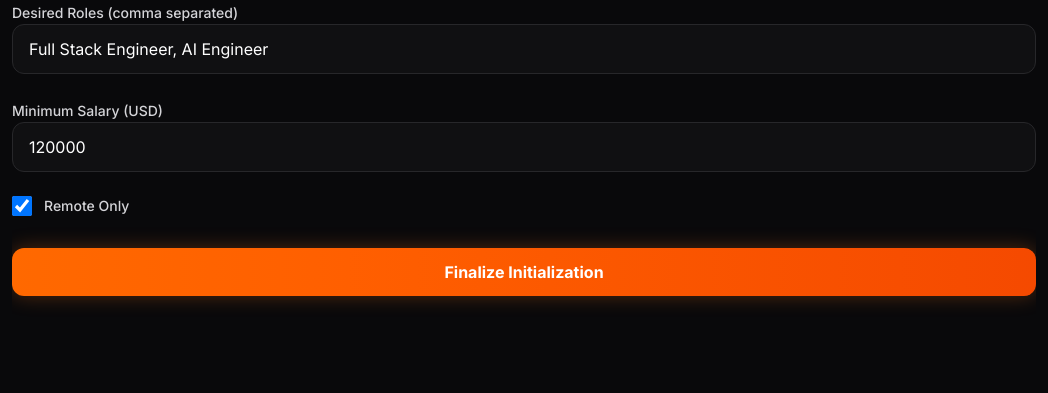
Test: PreferencesForm › shows an error and stops the spinner instead of hanging when the save fails
The width and height of the screenshot is (1048, 393).
Click the button "Finalize Initialization" at (524, 272), box [12, 248, 1036, 296]
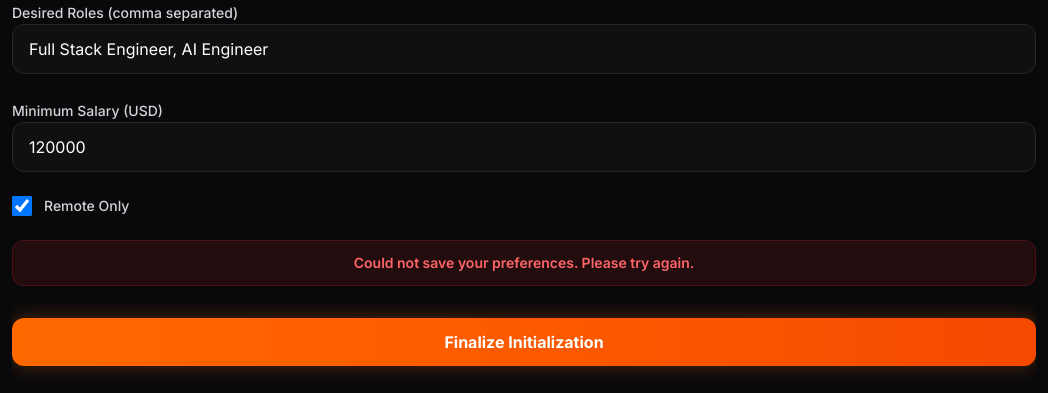
Result: the text "Could not save your preferences. Please try again." is shown at [12, 240, 1036, 286]
